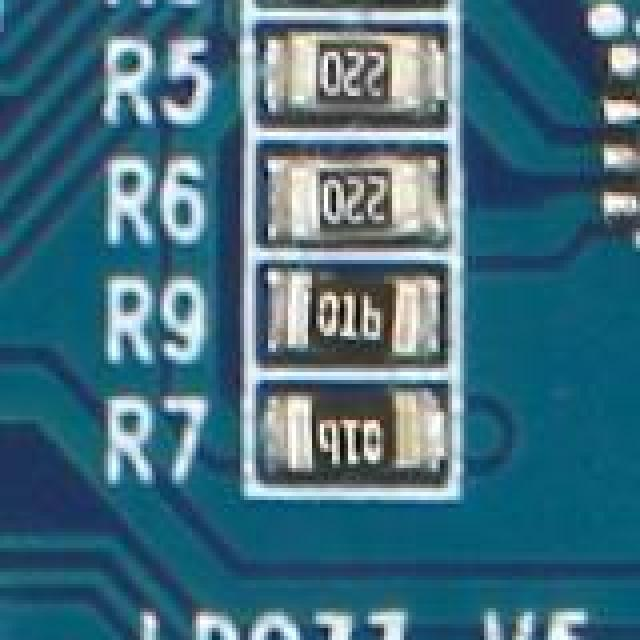IC: (612, 24, 640, 232)
resistor: (276, 380, 440, 480), (284, 136, 450, 230), (276, 252, 438, 348), (300, 44, 426, 106)
